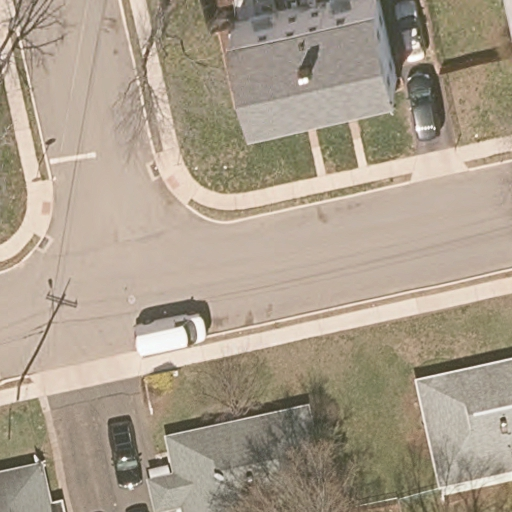DT: (7, 376, 27, 416)
